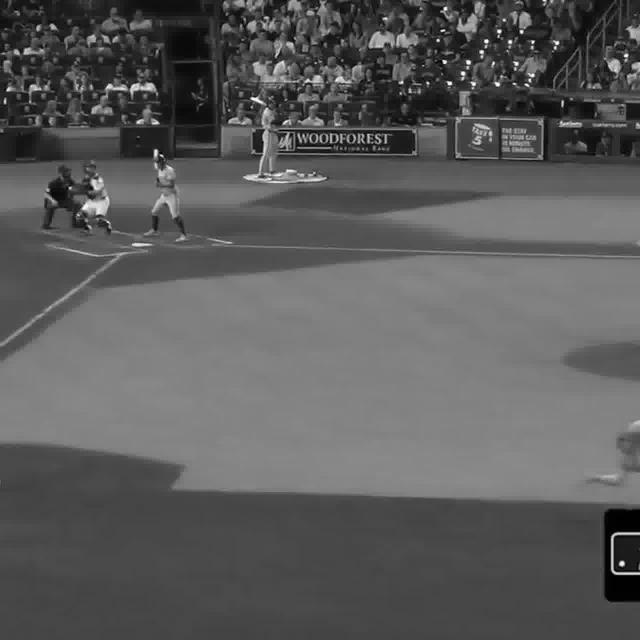base: (132, 242, 152, 248)
bat: (250, 94, 275, 112), (152, 145, 161, 186)
shoe: (175, 232, 190, 245), (103, 226, 116, 238), (255, 176, 273, 181), (143, 231, 156, 237), (81, 230, 92, 234)
